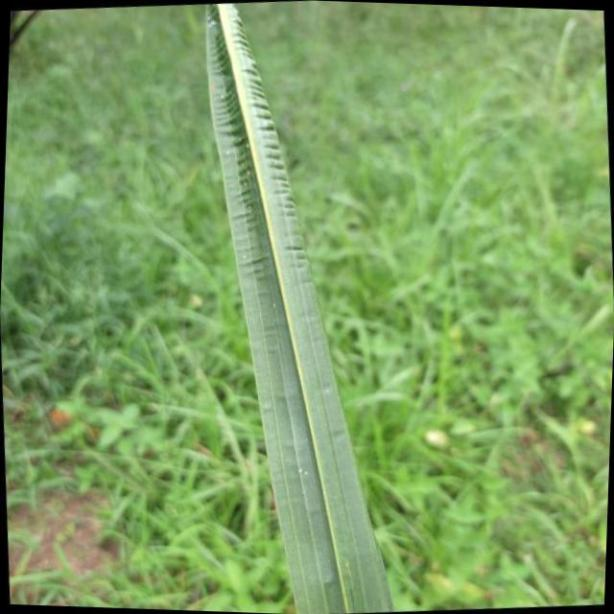Boron: (200, 0, 398, 614)
